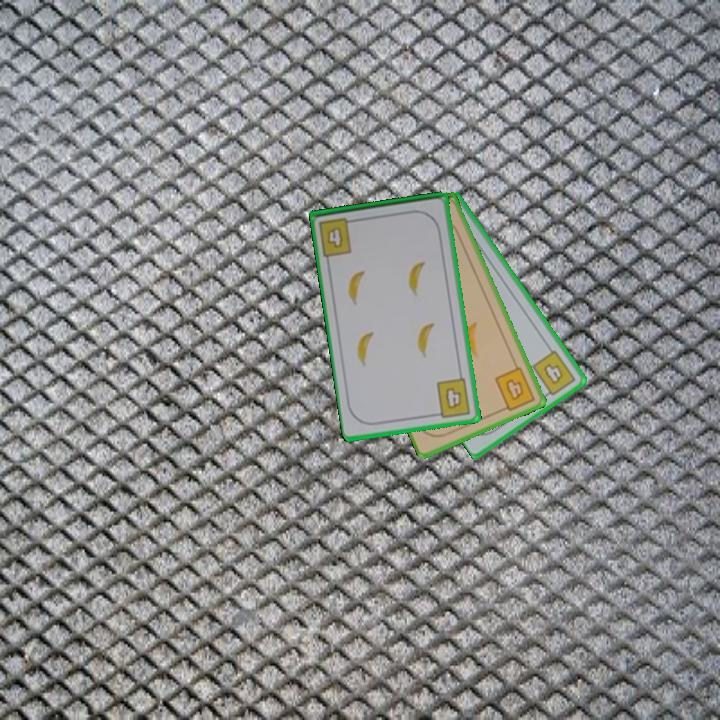4b: (528, 346, 579, 401), (491, 363, 538, 415), (315, 214, 360, 259), (431, 375, 473, 420)
